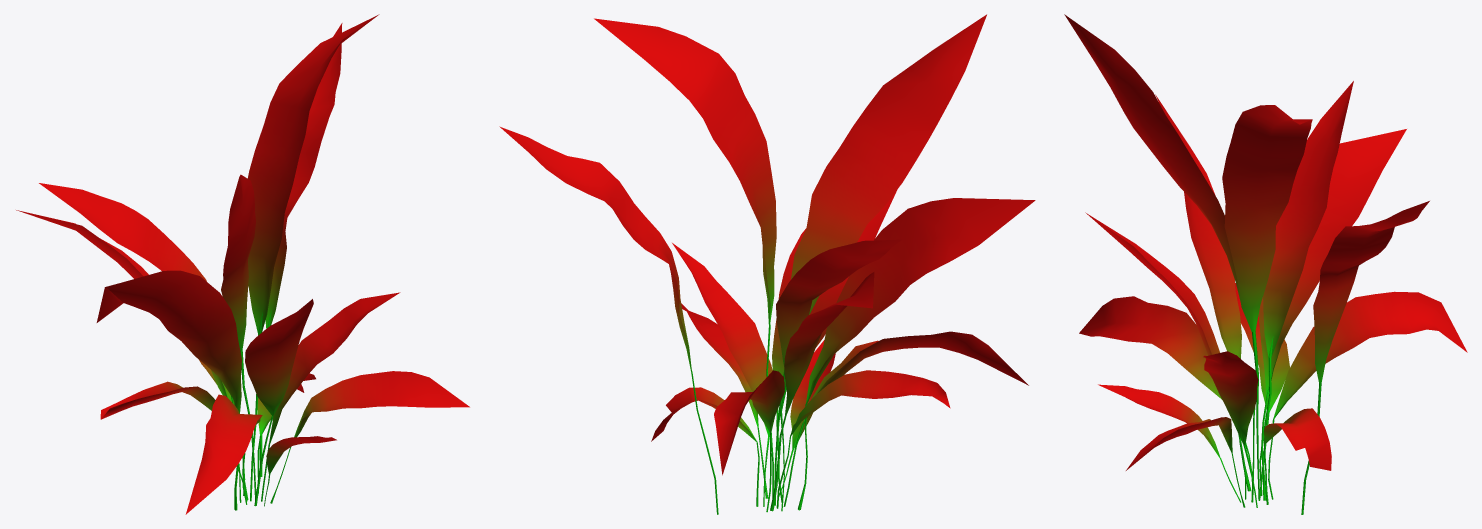
The model's file is Cast - Iron Plant_LOD0_Var1_shdmr.fbx.
The picture shows the model from 3 angles, left to right: view 1: azimuth 30°, elevation 25°; view 2: azimuth 150°, elevation 25°; view 3: azimuth 270°, elevation 25°; orthographic projection. The views are drawn at different scales.
Parts seen in each view (by area): view 1: _663a_Var1_LOD0; view 2: _663a_Var1_LOD0; view 3: _663a_Var1_LOD0.
Boxes of the visible parts, box(x1,y1,x2,y2) form: _663a_Var1_LOD0: box(16, 14, 469, 514); _663a_Var1_LOD0: box(499, 14, 1035, 514); _663a_Var1_LOD0: box(1064, 14, 1467, 514).
Size of the model in its own units: 68.16 by 77.28 by 62.44.
